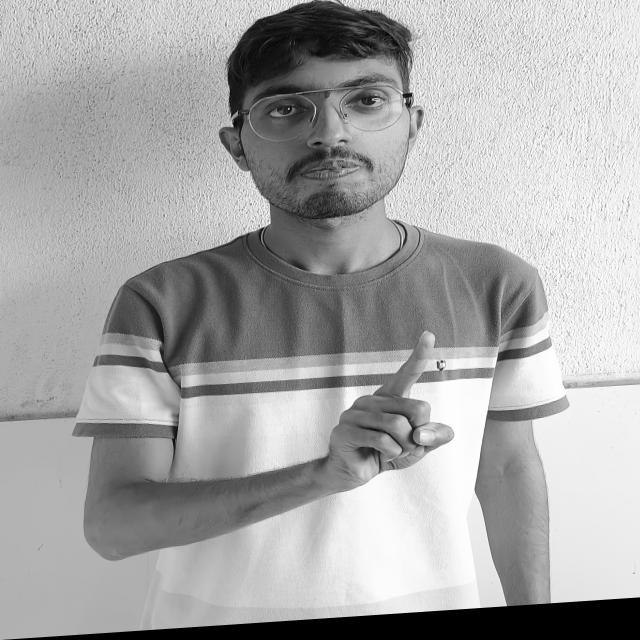Question: (302, 317, 473, 519)
